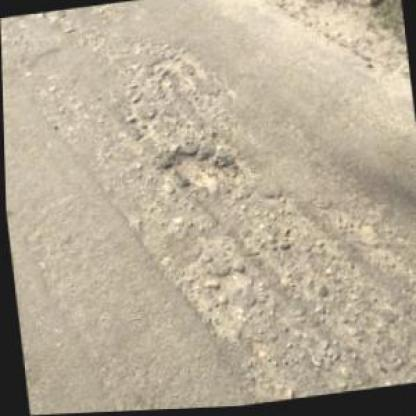pothole: (158, 143, 236, 195)
